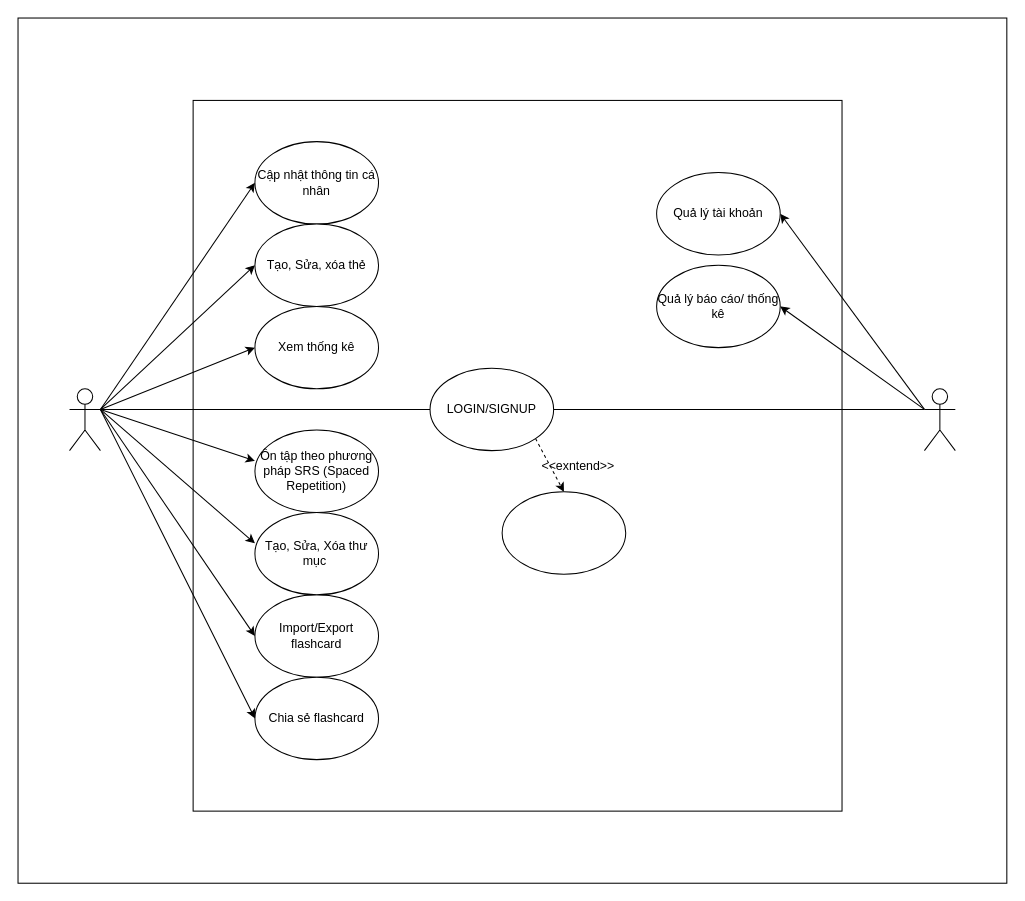
The diagram is 1025 pixels wide and 901 high, and some of its shapes have lost their labels. Each missing label, with the centre of its shape:
"Admin" belongs at point (939, 419).
"Reset password" belongs at point (563, 532).
"User" belongs at point (84, 419).
